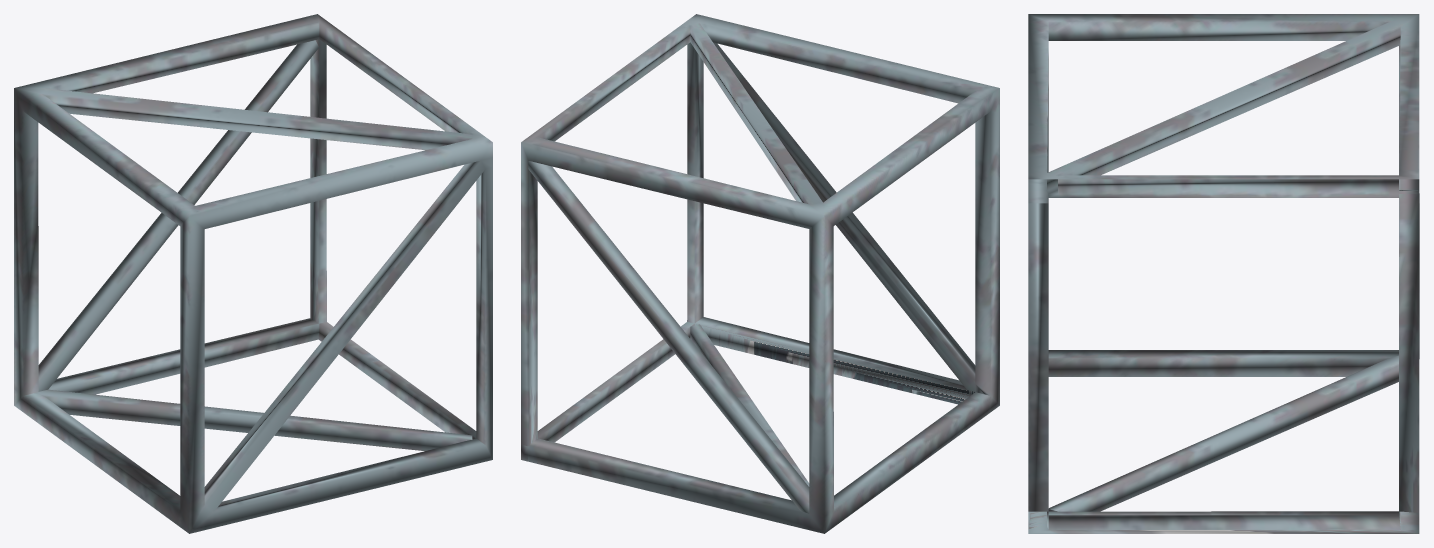
File: Treliça.fbx
3 renders of one model, left to right at view 1: azimuth 30°, elevation 25°; view 2: azimuth 150°, elevation 25°; view 3: azimuth 270°, elevation 25°, orthographic. The views are drawn at different scales.
Visible parts, largest first — view 1: Treliça; view 2: Treliça; view 3: Treliça.
Boxes of the visible parts, x1,y1,x2,y2 form: Treliça: (14,14,492,533); Treliça: (521,14,999,533); Treliça: (1028,14,1419,533).
Size of the model in its own units: 99.99 by 100 by 100.
